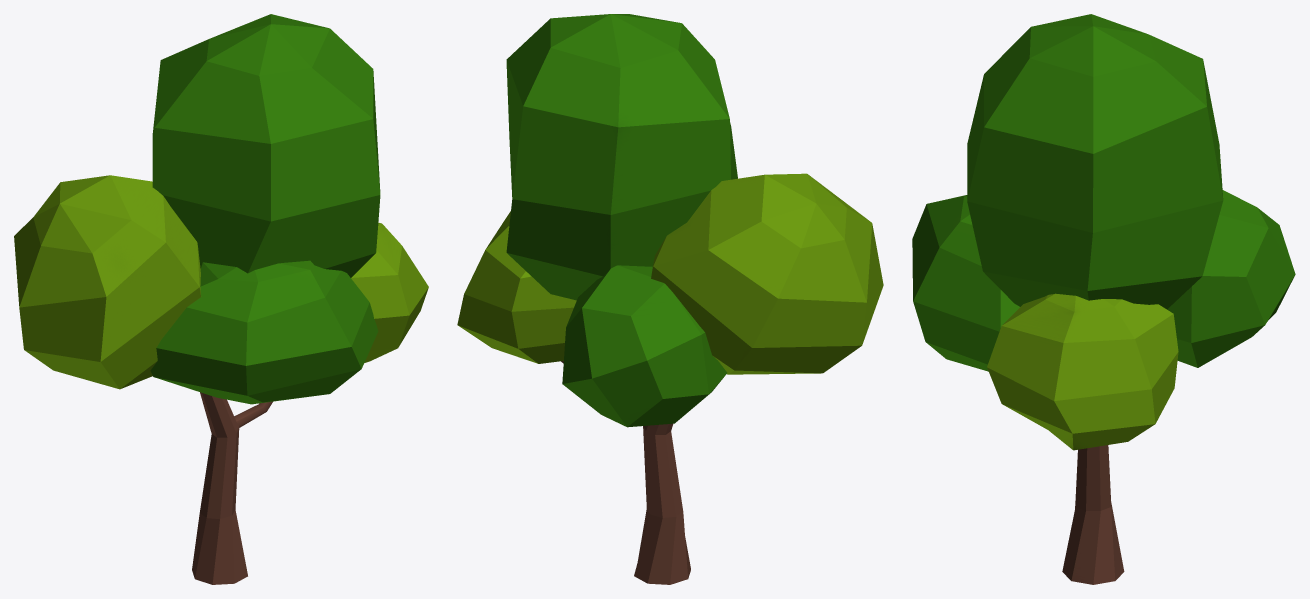
Rendered from Tree_01.fbx.
3 renders of one model, left to right at view 1: azimuth 30°, elevation 25°; view 2: azimuth 150°, elevation 25°; view 3: azimuth 270°, elevation 25°, orthographic. The views are drawn at different scales.
Parts seen in each view (by area): view 1: Tree_01; view 2: Tree_01; view 3: Tree_01.
Part boxes in pixels (x1=…): Tree_01: x1=14, y1=14, x2=428, y2=584; Tree_01: x1=457, y1=14, x2=883, y2=584; Tree_01: x1=912, y1=14, x2=1295, y2=584.
Bounding box in the file's own units: 2.75 × 3.61 × 2.19.
1 material, 1 textured.
